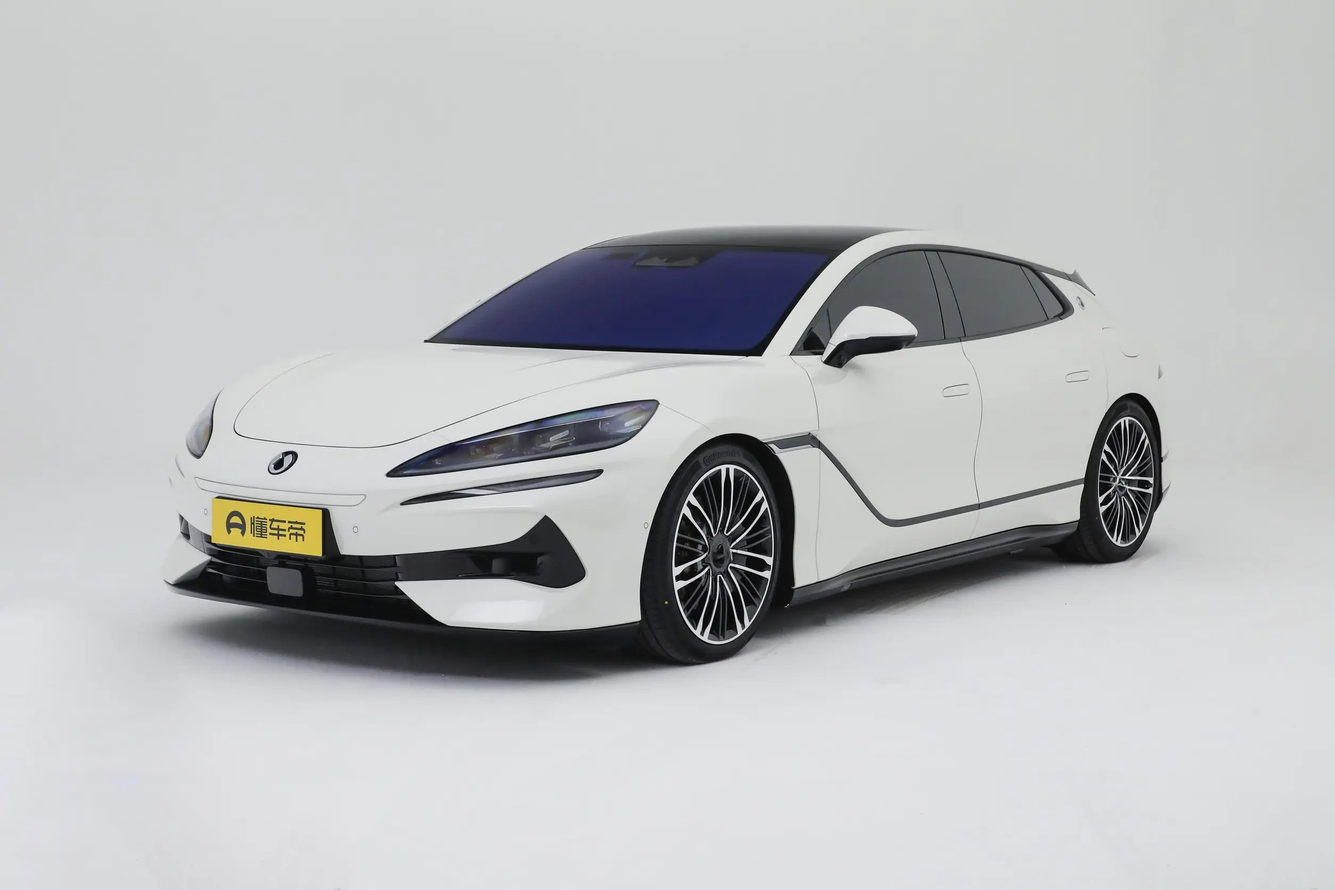DENZA: (269, 454, 292, 473)
